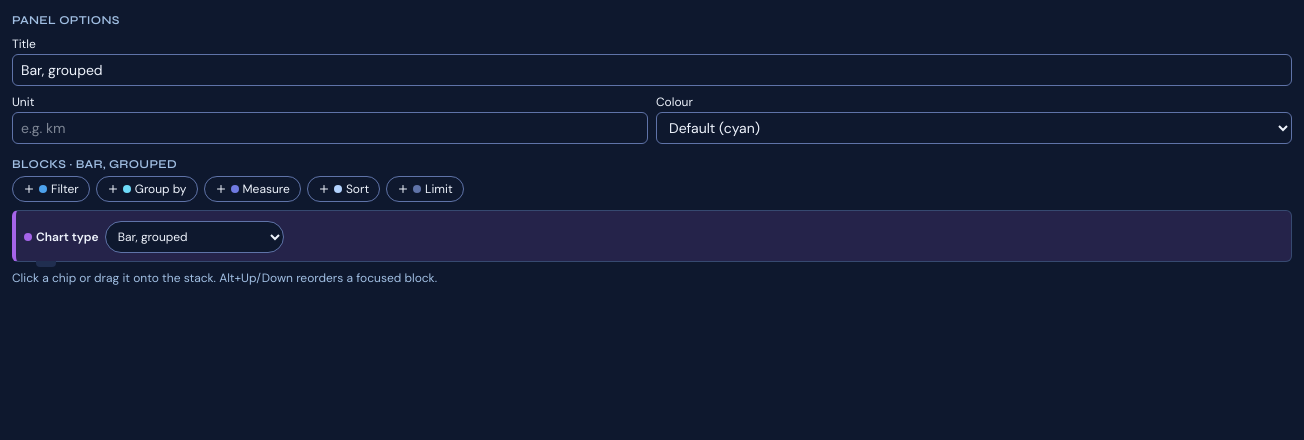
Test case: block panel UI › shows only the allowed palette chips, adds a block live and flags an incomplete one
Later steps or results of the test are not shown.
Expected: the element named "add a block" shows "Filter", [12,176,90,202]
Expected: the element named "add a block" shows "Measure", [204,176,301,202]
Click the button "Group by" at {"x": 147, "y": 189}, box [96,176,198,202]
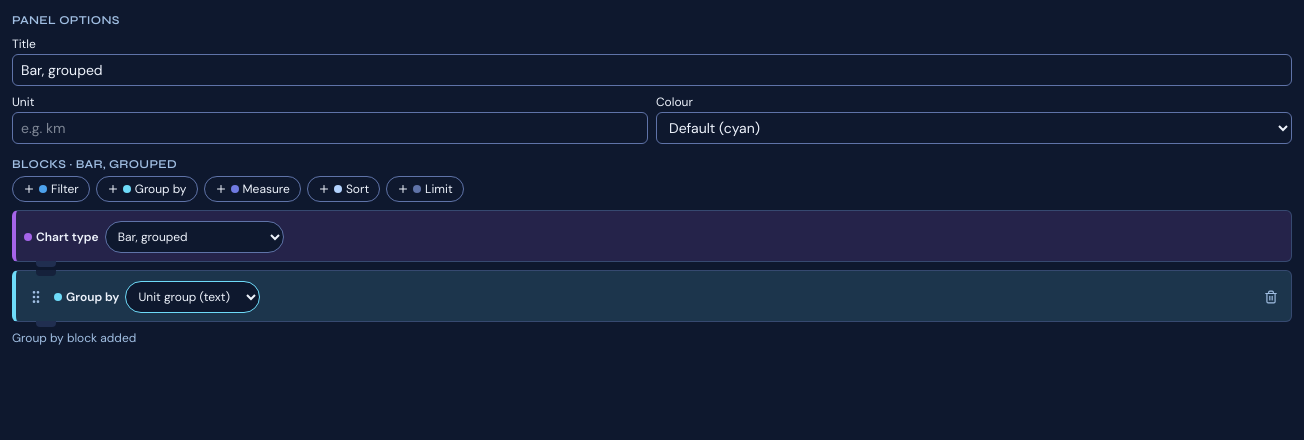
Click the button "Filter" at {"x": 51, "y": 189}, box [12,176,90,202]
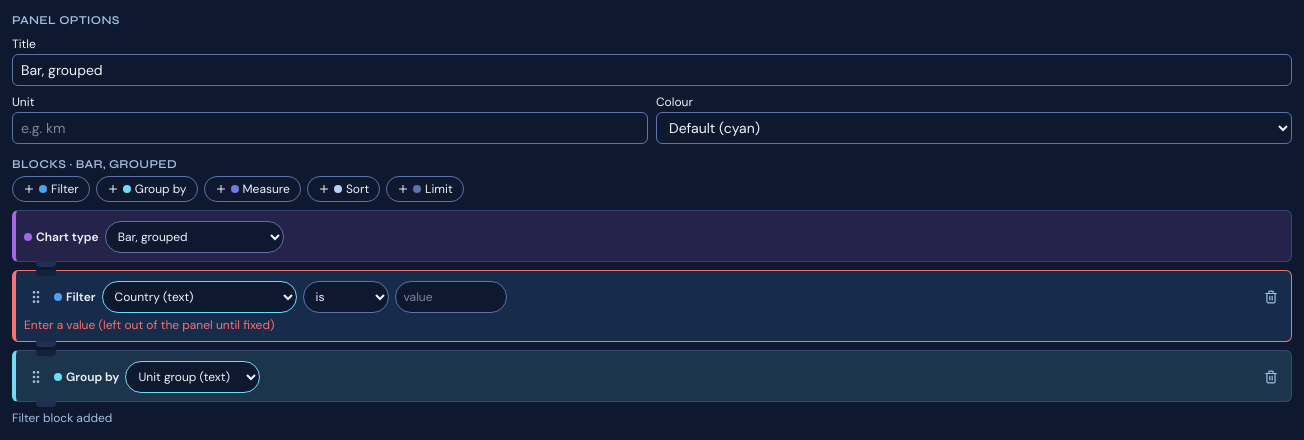
Expected: the message "Enter a value (left out of the panel until fixed)" is shown, [24,317,274,333]
